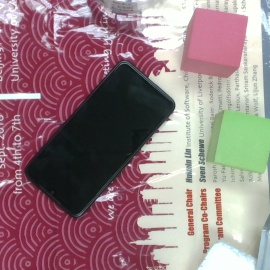phone: (23, 60, 176, 221)
